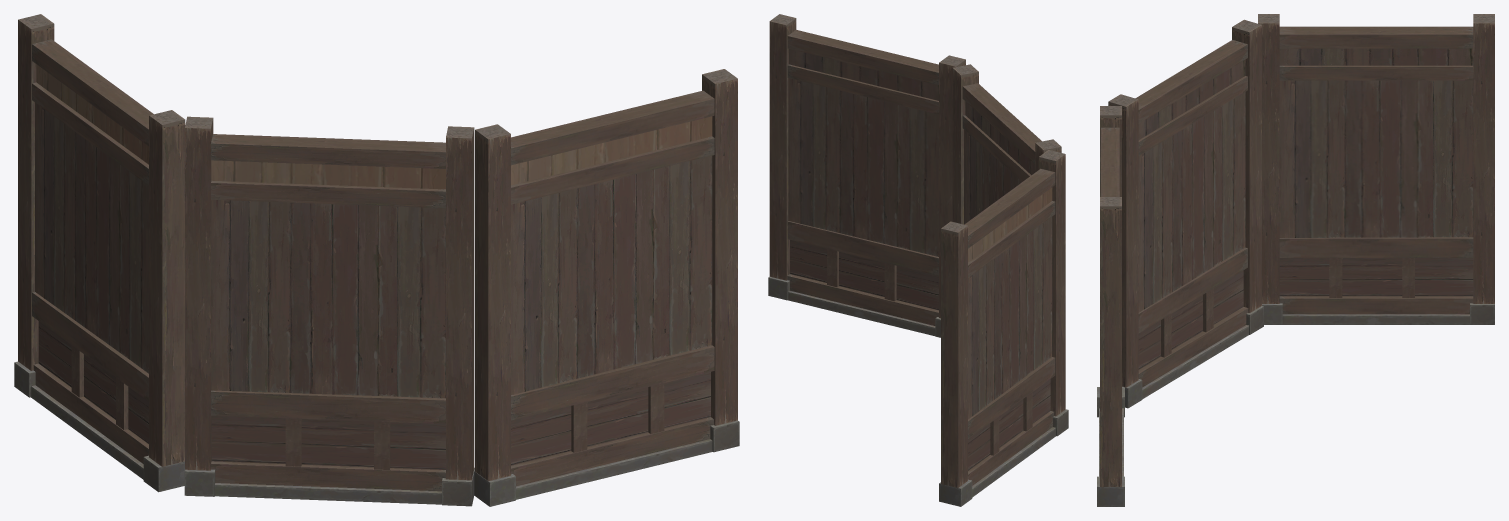
Rendered from Homeworld_Exterior_Common_Thing_Wenquanzhuanjiao_01_Vo.fbx.
The picture shows the model from 3 angles, left to right: view 1: azimuth 30°, elevation 25°; view 2: azimuth 150°, elevation 25°; view 3: azimuth 270°, elevation 25°; orthographic projection. The views are drawn at different scales.
Parts seen in each view (by area): view 1: Homeworld_Exterior_Common_Thing_Wenquanzhuanjiao_01_Vo; view 2: Homeworld_Exterior_Common_Thing_Wenquanzhuanjiao_01_Vo; view 3: Homeworld_Exterior_Common_Thing_Wenquanzhuanjiao_01_Vo.
Part boxes in pixels (x1,y1,x2,y2): Homeworld_Exterior_Common_Thing_Wenquanzhuanjiao_01_Vo: [14, 14, 739, 506]; Homeworld_Exterior_Common_Thing_Wenquanzhuanjiao_01_Vo: [768, 14, 1068, 506]; Homeworld_Exterior_Common_Thing_Wenquanzhuanjiao_01_Vo: [1097, 14, 1494, 506].
Size of the model in its own units: 4.38 by 3.17 by 3.8.
